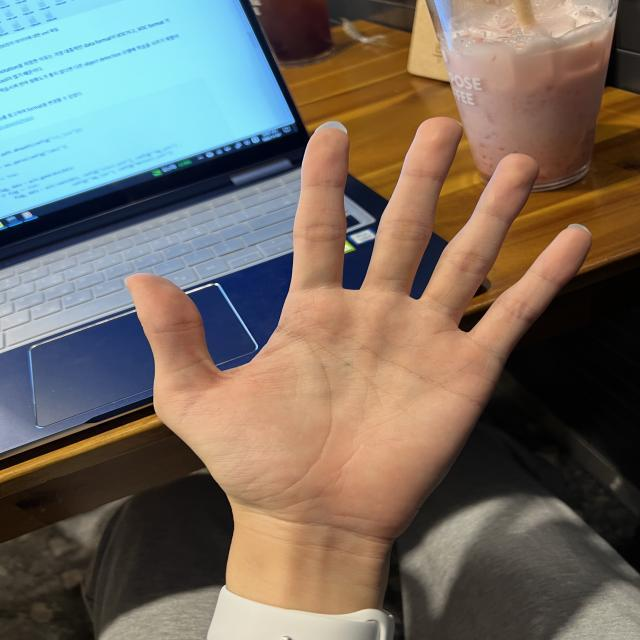hand: (71, 104, 629, 553)
